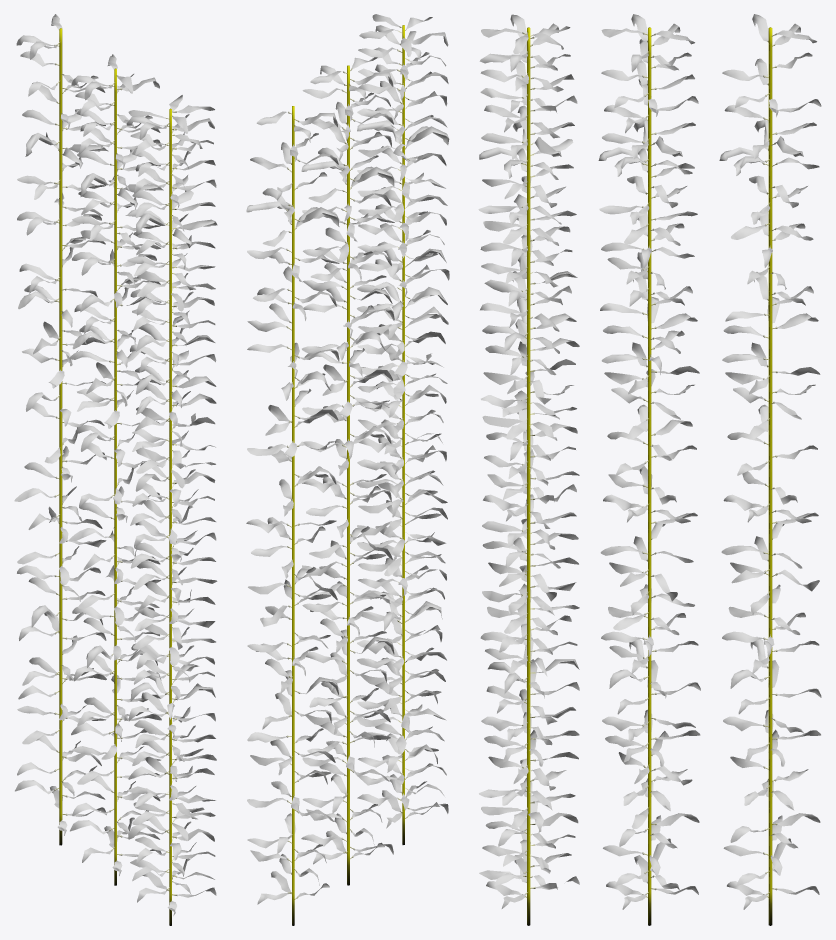
Rendered from Kelp.fbx.
The picture shows the model from 3 angles, left to right: view 1: azimuth 30°, elevation 25°; view 2: azimuth 150°, elevation 25°; view 3: azimuth 270°, elevation 25°; orthographic projection. The views are drawn at different scales.
Parts seen in each view (by area): view 1: Kelp_v01_LOD_00, Kelp_v02_LOD_00, Kelp_v03_LOD_00; view 2: Kelp_v01_LOD_00, Kelp_v02_LOD_00, Kelp_v03_LOD_00; view 3: Kelp_v01_LOD_00, Kelp_v02_LOD_00, Kelp_v03_LOD_00.
Part boxes in pixels (x1=…): Kelp_v01_LOD_00: x1=125, y1=95, x2=217, y2=925; Kelp_v02_LOD_00: x1=69, y1=54, x2=163, y2=885; Kelp_v03_LOD_00: x1=14, y1=14, x2=108, y2=845; Kelp_v01_LOD_00: x1=356, y1=14, x2=449, y2=844; Kelp_v02_LOD_00: x1=301, y1=57, x2=394, y2=885; Kelp_v03_LOD_00: x1=246, y1=106, x2=339, y2=925; Kelp_v01_LOD_00: x1=478, y1=14, x2=579, y2=925; Kelp_v02_LOD_00: x1=598, y1=14, x2=700, y2=925; Kelp_v03_LOD_00: x1=719, y1=14, x2=821, y2=925.
Size of what is drawn, in the model's own units: 427 by 4100 by 1419.
